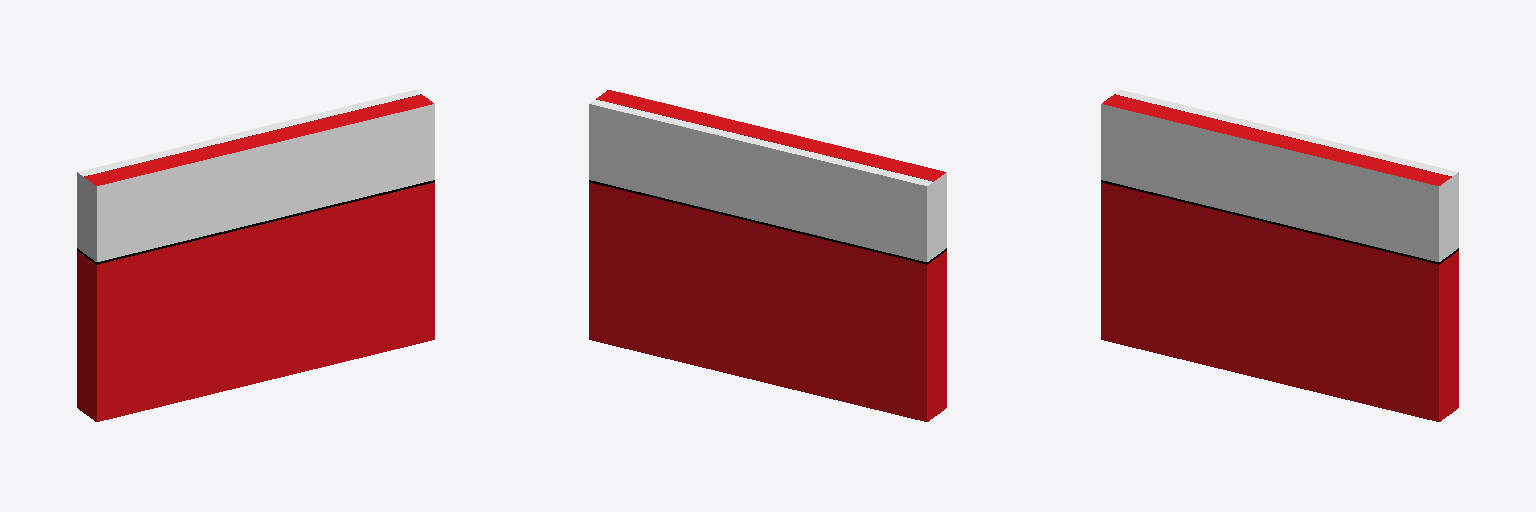
The picture shows the model from 3 angles: view 1: azimuth 30°, elevation 25°; view 2: azimuth 150°, elevation 25°; view 3: azimuth 330°, elevation 25°; orthographic projection.
Parts seen in each view (by area): view 1: Cube; view 2: Cube; view 3: Cube.
Boxes of the visible parts, <box> form: Cube: <box>77,90,434,421</box>; Cube: <box>589,90,946,421</box>; Cube: <box>1101,90,1458,421</box>.
Bounding box in the file's own units: 6 × 4 × 0.6.
1 materials, 1 textured.